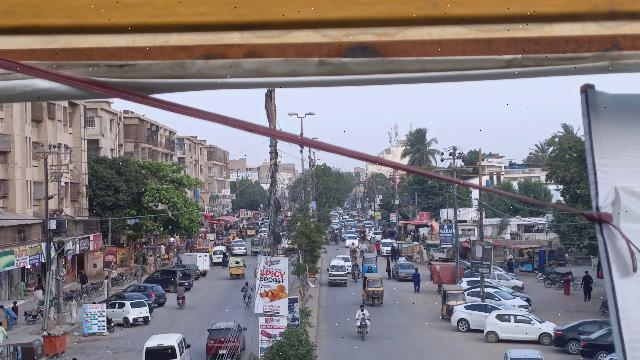Bike: (355, 317, 371, 342), (241, 294, 254, 307), (177, 295, 186, 310)
Car: (483, 310, 555, 345), (551, 318, 605, 354), (449, 301, 506, 332), (205, 321, 247, 359), (143, 267, 194, 293), (106, 300, 152, 327), (122, 282, 168, 308), (578, 324, 612, 356)
Person: (577, 269, 596, 303), (66, 295, 79, 325), (410, 267, 422, 295), (355, 304, 370, 321), (382, 254, 392, 279), (175, 283, 189, 297), (241, 280, 254, 294)
Rickshaw: (437, 284, 465, 321), (360, 273, 386, 308), (227, 255, 246, 282), (360, 253, 379, 274)
Truck: (174, 251, 211, 273)
Van: (139, 331, 190, 360), (326, 260, 349, 287)
